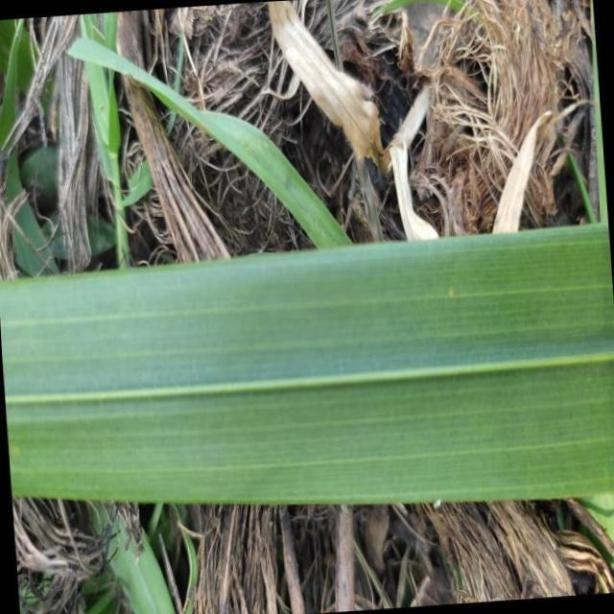Healthy: (1, 220, 614, 503)
